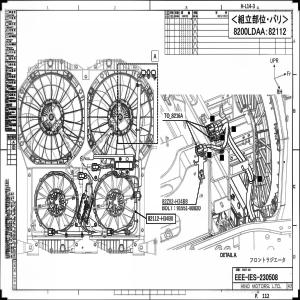PartNumber: (147, 215, 174, 222), (162, 198, 188, 204), (176, 205, 202, 211)
